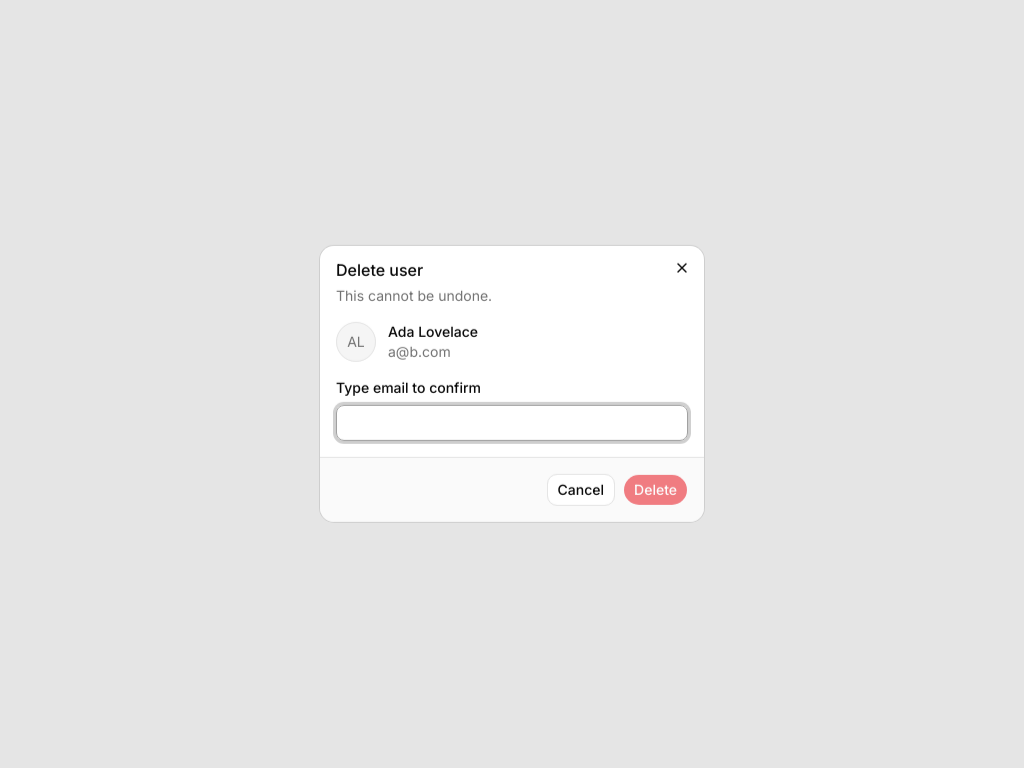
Scenario: EmailConfirmDialog › keeps confirm disabled until typed email matches
This screenshot has width=1024, height=768.
Check: the button "Delete" is disabled, box [623,474,688,506]
Type "a@b.com" into the field labelled "Type email to confirm" at (512, 423), box [336,405,688,441]
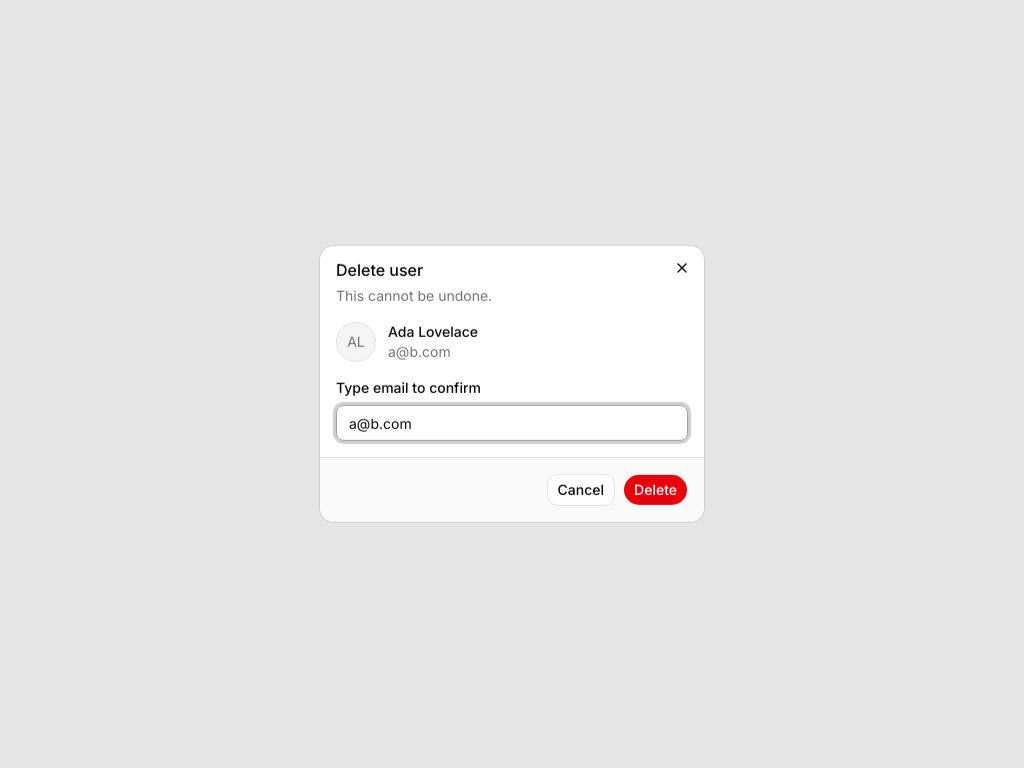
Check: the button "Delete" is enabled, box [623,474,688,506]
